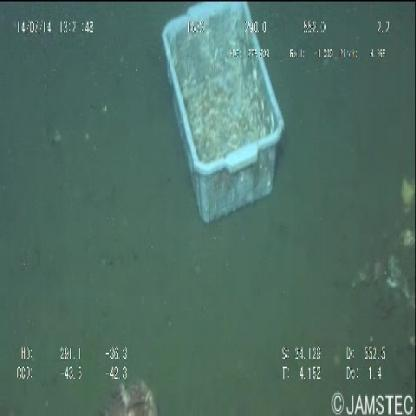Rác: (158, 1, 286, 239)
